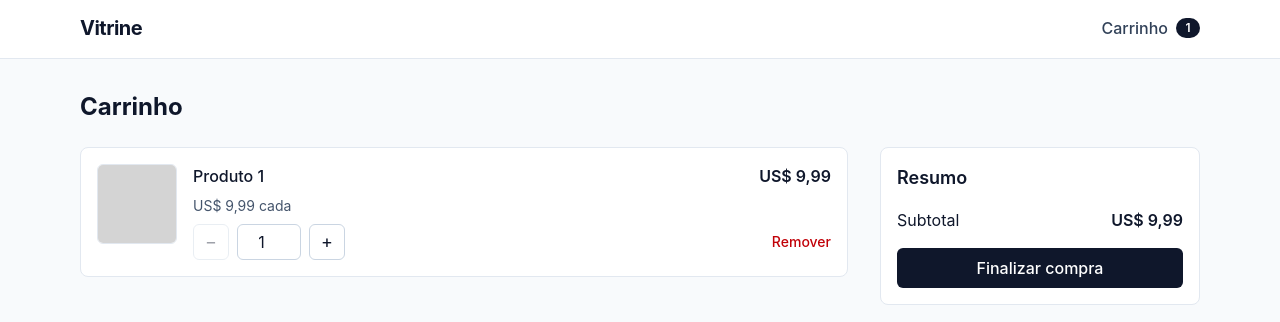
CartPage › aumentar e diminuir atualizam o subtotal
Click the button named "Aumentar quantidade de Produto 1" at (327, 242), box [309, 224, 345, 260]
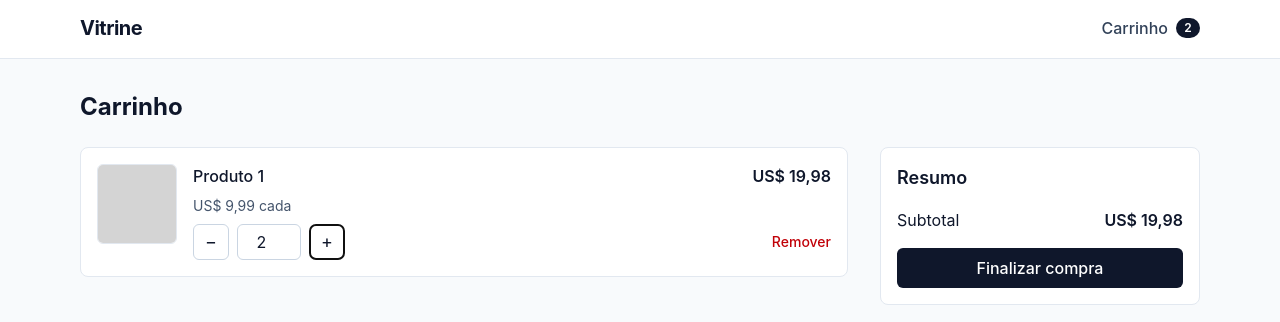
expect the text "US$ 19,98" next to "Subtotal" is shown: met, box [1104, 210, 1183, 230]
expect the link with aria-label "Carrinho (2 itens)" is shown: met, box [1102, 16, 1200, 40]
Click the button named "Diminuir quantidade de Produto 1" at (211, 242), box [193, 224, 229, 260]
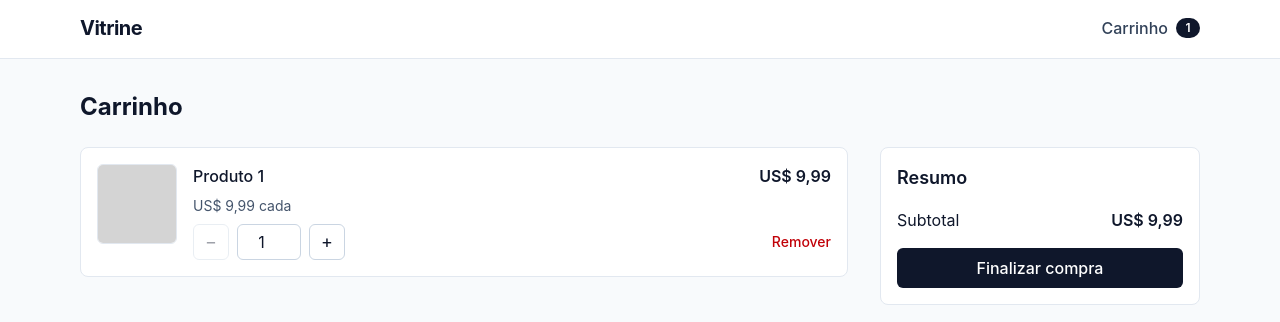
expect the text "US$ 9,99" next to "Subtotal" is shown: met, box [1111, 210, 1183, 230]
